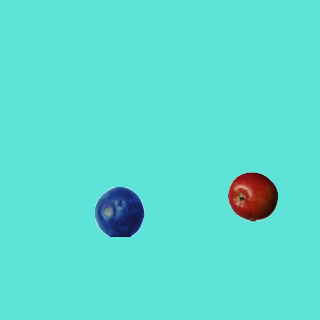Apple Braeburn: (227, 171, 277, 221)
Huckleberry: (94, 186, 144, 236)
